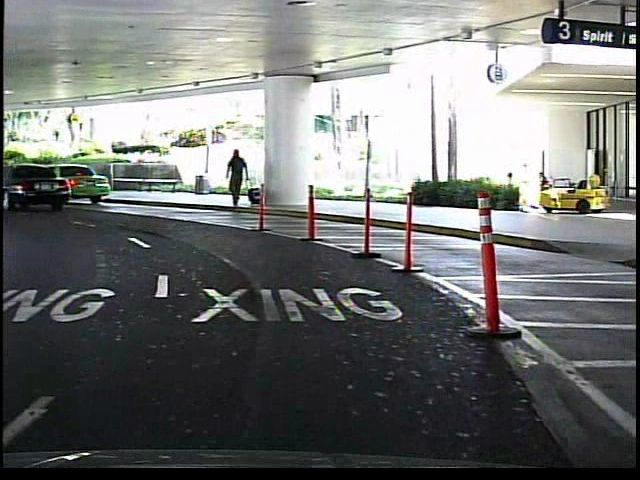person: (222, 146, 251, 212)
